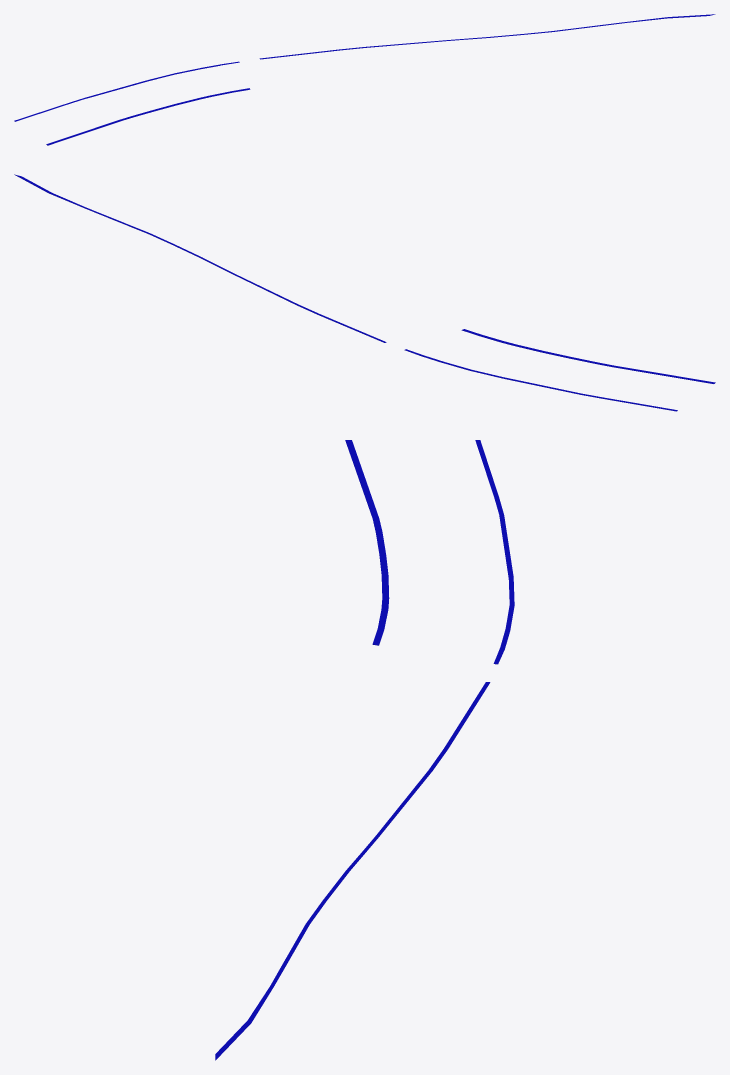
The model's file is riverfrontSidewalk.FBX.
3 renders of one model, top to bottom at view 1: azimuth 30°, elevation 25°; view 2: azimuth 150°, elevation 25°; view 3: azimuth 270°, elevation 25°, orthographic. The views are drawn at different scales.
Visible parts, largest first — view 1: riverfrontSidewalk; view 2: riverfrontSidewalk; view 3: riverfrontSidewalk.
Boxes of the visible parts, left/top/right/bottom form: riverfrontSidewalk: left=14, top=14, right=715, bottom=145; riverfrontSidewalk: left=14, top=174, right=715, bottom=411; riverfrontSidewalk: left=215, top=440, right=514, bottom=1060.
Bounding box in the file's own units: 473078 × 96419 × 100.
